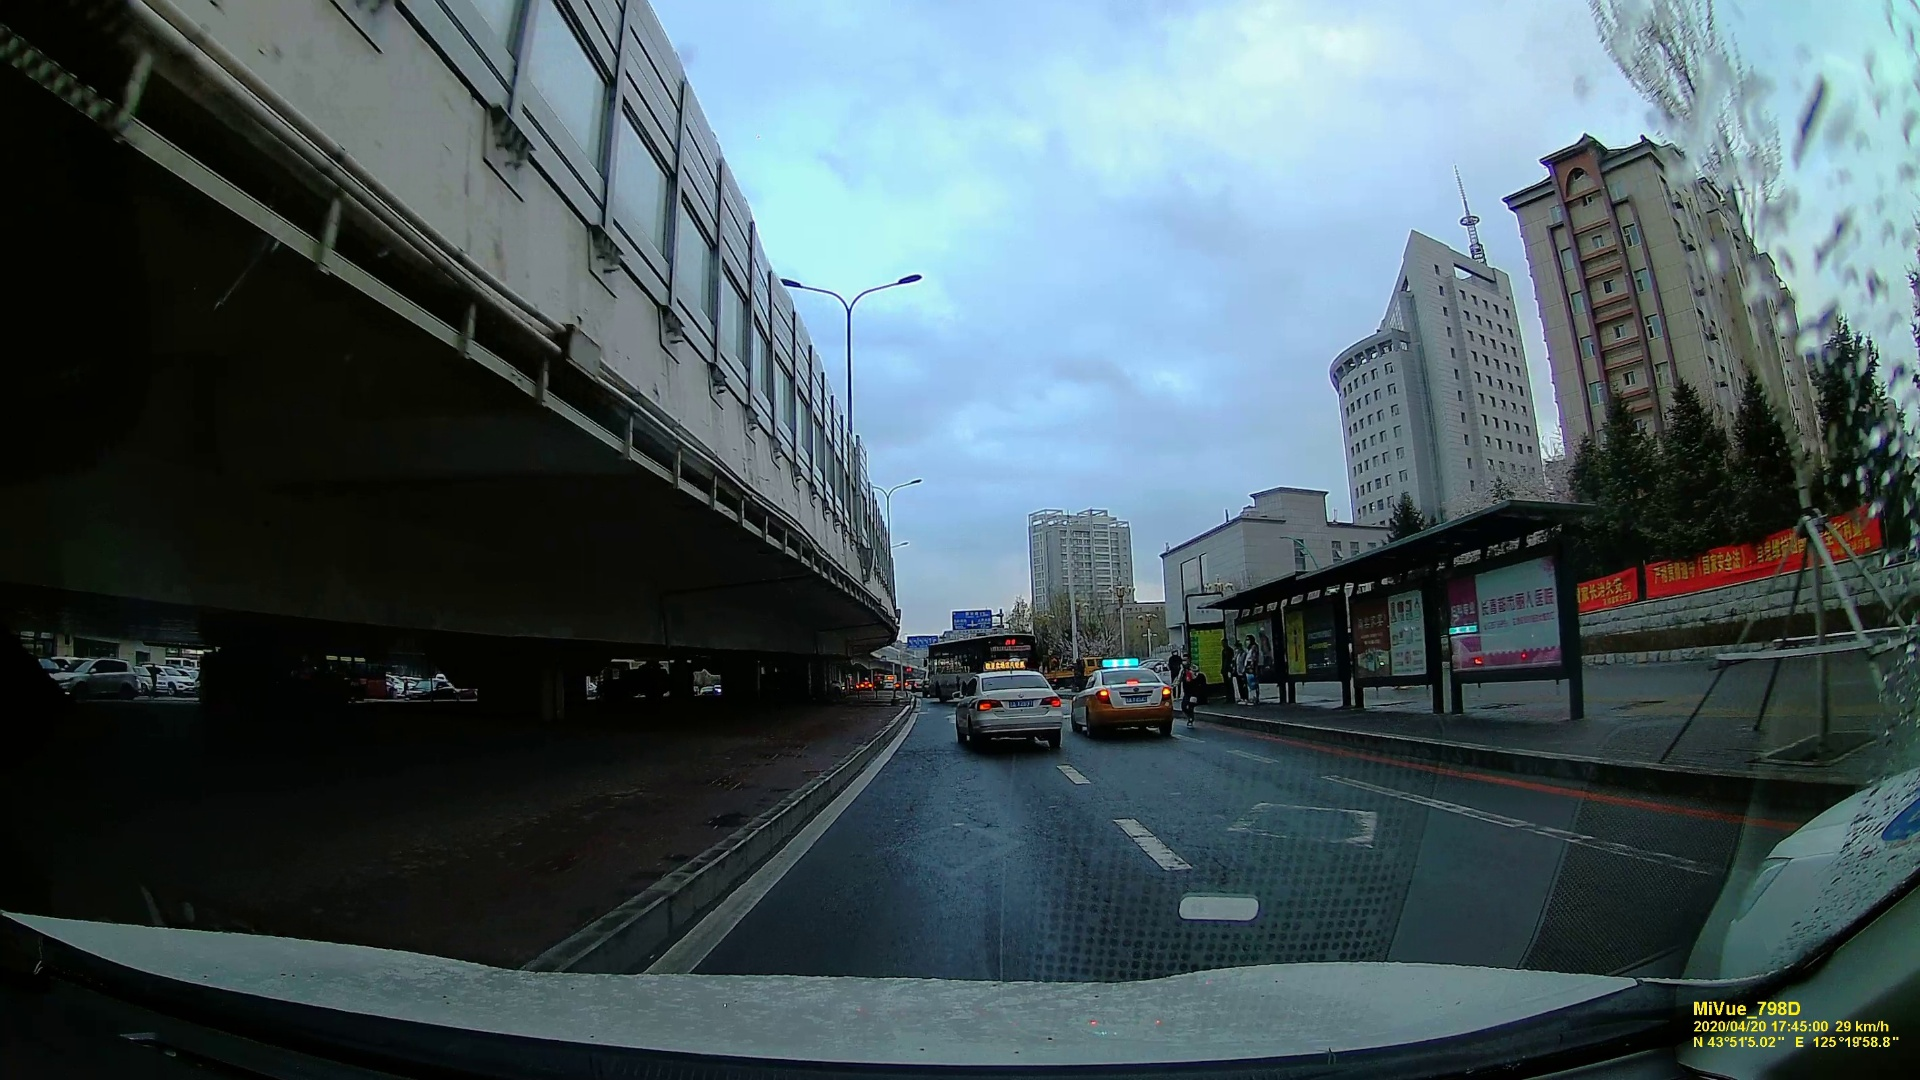bus: (926, 644, 1034, 702)
person: (1176, 654, 1202, 730), (1242, 634, 1262, 706), (1217, 637, 1231, 704), (1231, 639, 1244, 704)
traffic_sign: (953, 610, 989, 628), (905, 635, 937, 647)
vehicle: (951, 673, 1067, 751), (1071, 664, 1176, 739), (42, 654, 132, 704)
